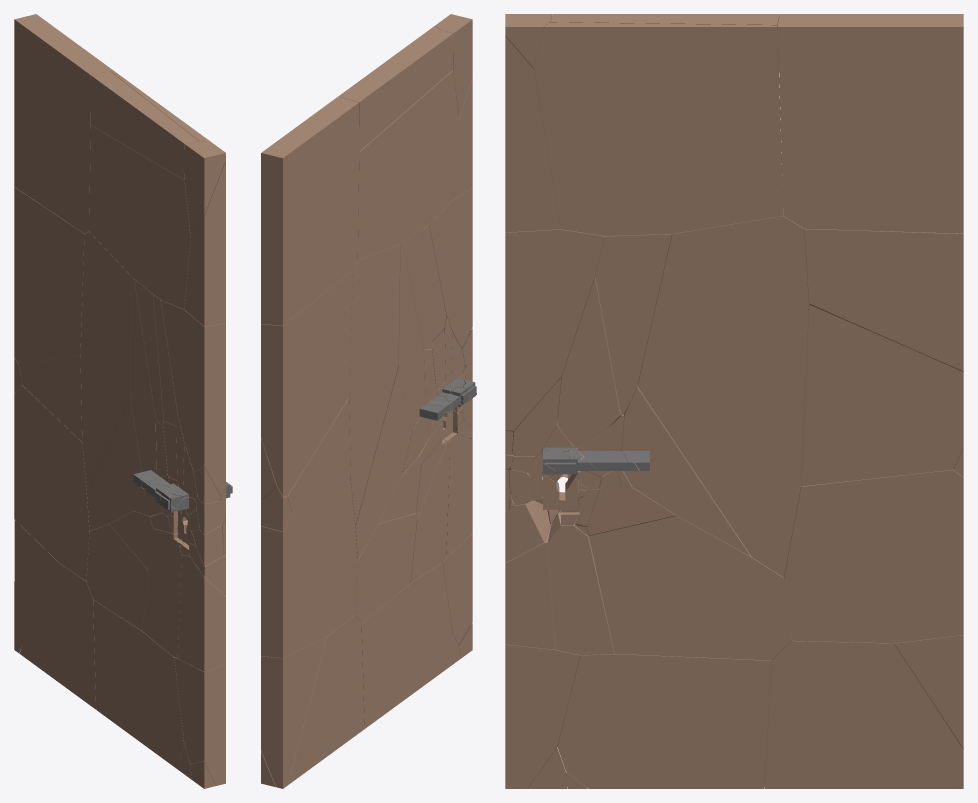
Rendered from storeroom_door_kaputt.glb.
The picture shows the model from 3 angles, left to right: view 1: azimuth 30°, elevation 25°; view 2: azimuth 150°, elevation 25°; view 3: azimuth 270°, elevation 25°; orthographic projection. The views are drawn at different scales.
Parts seen in each view (by area): view 1: Cube.001_cell.064, Cube.001_cell.008, Cube.001_cell.050, Cube.001_cell.084, Cube.001_cell.081, Cube.001_cell.069, Cube.001_cell.054, Cube.001_cell.073, Cube.001_cell.049, Cube.001_cell.019, Cube.001_cell.062, Cube.001_cell.082 (+21 smaller); view 2: Cube.001_cell.064, Cube.001_cell.050, Cube.001_cell.084, Cube.001_cell.008, Cube.001_cell.081, Cube.001_cell.069, Cube.001_cell.073, Cube.001_cell.099, Cube.001_cell.049, Cube.001_cell.054, Cube.001_cell.082, Cube.001_cell.005 (+17 smaller); view 3: Cube.001_cell.008, Cube.001_cell.081, Cube.001_cell.064, Cube.001_cell.084, Cube.001_cell.069, Cube.001_cell.073, Cube.001_cell.082, Cube.001_cell.070, Cube.001_cell.050, Cube.001_cell.054, Cube.001_cell.051, Cube.001_cell.019 (+13 smaller).
Boxes of the visible parts, x1=… form: Cube.001_cell.064: x1=14, y1=14, x2=112, y2=233; Cube.001_cell.008: x1=89, y1=70, x2=209, y2=309; Cube.001_cell.050: x1=14, y1=187, x2=84, y2=363; Cube.001_cell.084: x1=14, y1=386, x2=93, y2=580; Cube.001_cell.081: x1=80, y1=232, x2=131, y2=493; Cube.001_cell.069: x1=93, y1=599, x2=183, y2=769; Cube.001_cell.054: x1=161, y1=300, x2=225, y2=495; Cube.001_cell.073: x1=19, y1=563, x2=96, y2=709; Cube.001_cell.049: x1=90, y1=71, x2=198, y2=179; Cube.001_cell.019: x1=174, y1=657, x2=225, y2=785; Cube.001_cell.062: x1=184, y1=161, x2=225, y2=326; Cube.001_cell.082: x1=86, y1=524, x2=153, y2=630; Cube.001_cell.064: x1=261, y1=96, x2=359, y2=325; Cube.001_cell.050: x1=261, y1=270, x2=352, y2=496; Cube.001_cell.084: x1=261, y1=482, x2=357, y2=657; Cube.001_cell.008: x1=338, y1=26, x2=459, y2=260; Cube.001_cell.081: x1=349, y1=243, x2=400, y2=525; Cube.001_cell.069: x1=361, y1=563, x2=452, y2=728; Cube.001_cell.073: x1=261, y1=615, x2=364, y2=787; Cube.001_cell.099: x1=261, y1=637, x2=326, y2=788; Cube.001_cell.049: x1=341, y1=30, x2=453, y2=151; Cube.001_cell.054: x1=429, y1=188, x2=472, y2=348; Cube.001_cell.082: x1=355, y1=510, x2=416, y2=622; Cube.001_cell.005: x1=355, y1=366, x2=411, y2=559; Cube.001_cell.008: x1=534, y1=22, x2=782, y2=235; Cube.001_cell.081: x1=637, y1=209, x2=808, y2=577; Cube.001_cell.064: x1=777, y1=14, x2=963, y2=233; Cube.001_cell.084: x1=784, y1=469, x2=963, y2=643; Cube.001_cell.069: x1=557, y1=653, x2=771, y2=788; Cube.001_cell.073: x1=764, y1=632, x2=963, y2=788; Cube.001_cell.082: x1=588, y1=516, x2=791, y2=660; Cube.001_cell.070: x1=801, y1=305, x2=963, y2=486; Cube.001_cell.050: x1=804, y1=228, x2=963, y2=371; Cube.001_cell.054: x1=505, y1=229, x2=604, y2=431; Cube.001_cell.051: x1=595, y1=234, x2=671, y2=414; Cube.001_cell.019: x1=505, y1=644, x2=579, y2=788.
Bounding box in the file's own units: 0.4747 × 4.4 × 2.4.
